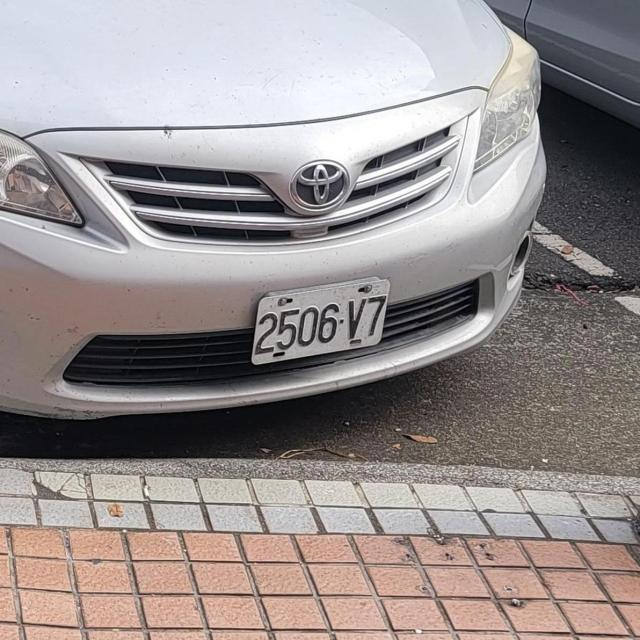W: (248, 267, 395, 376)
